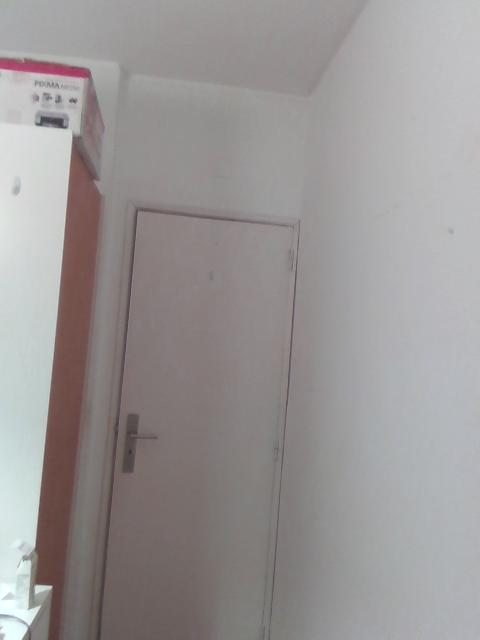closed_door: (88, 202, 293, 639)
